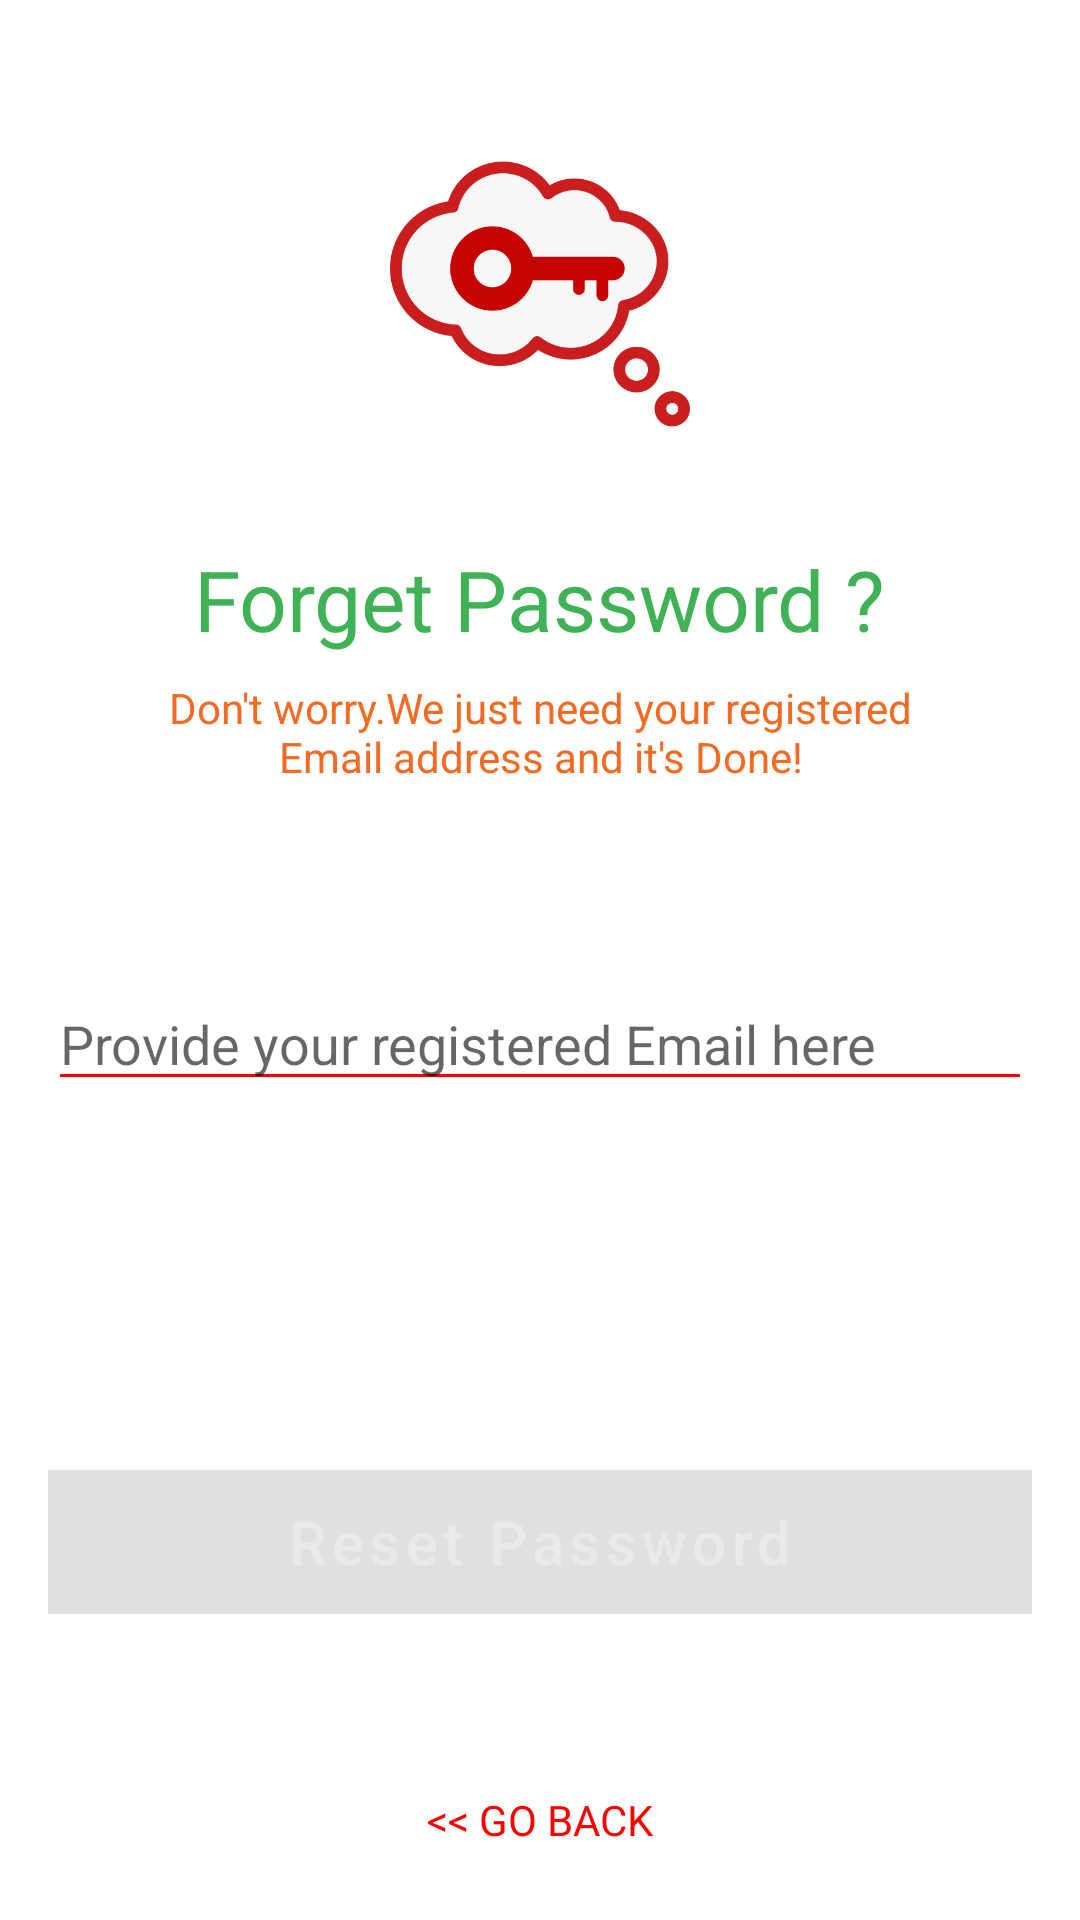

Locate icon controls on the screen. Image size 1080w x 1920h, boxes as (left=x1, top=y1, right=x2, bottom=y2).
forgot: (left=390, top=161, right=690, bottom=427)
